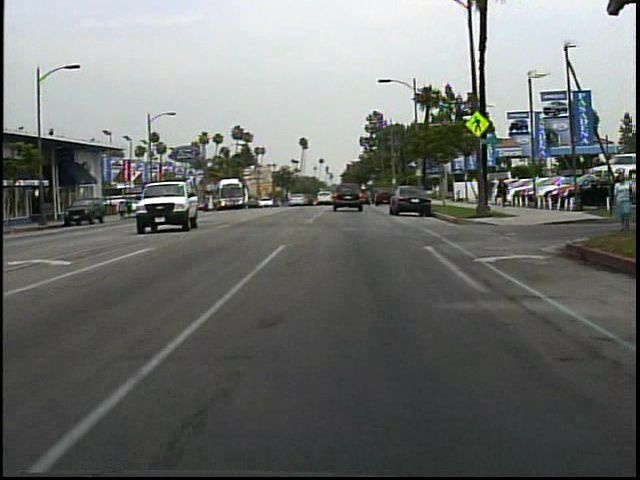person: (606, 167, 636, 233)
